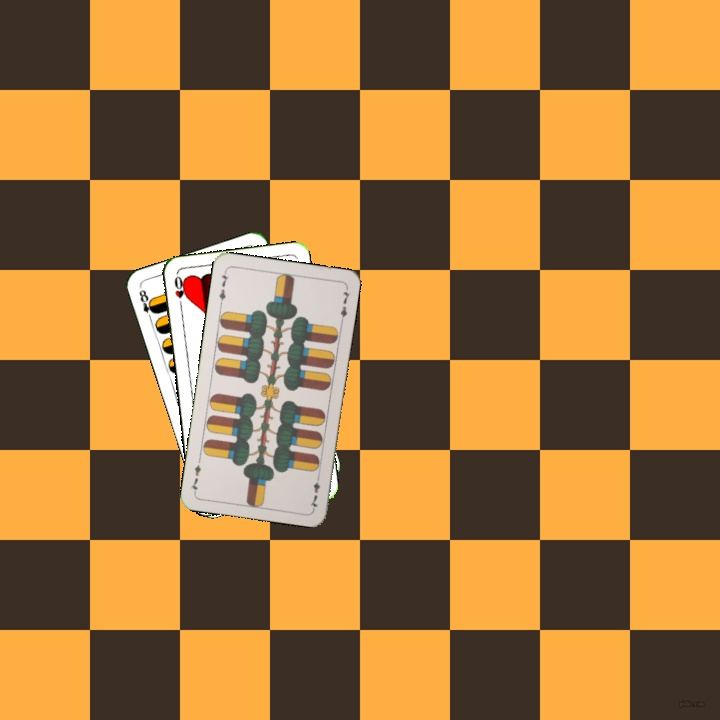E7: (215, 267, 231, 307), (306, 471, 322, 511)
E8: (135, 286, 158, 323)
HO: (170, 272, 188, 312)
